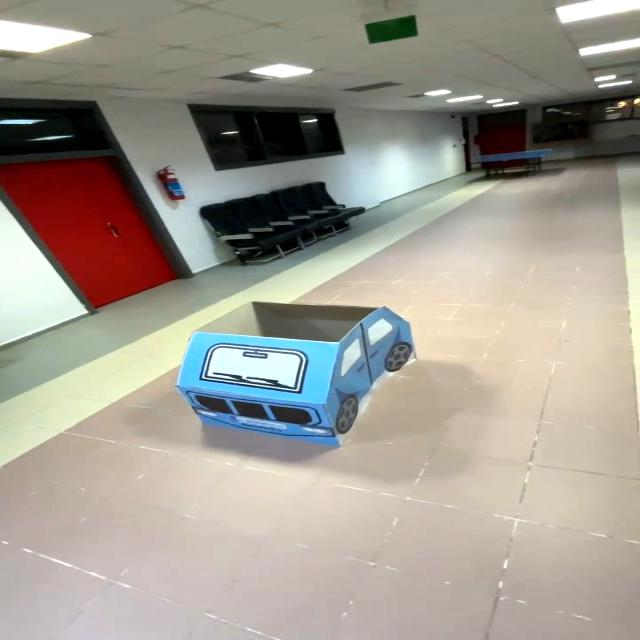blue_car: (144, 286, 449, 460)
